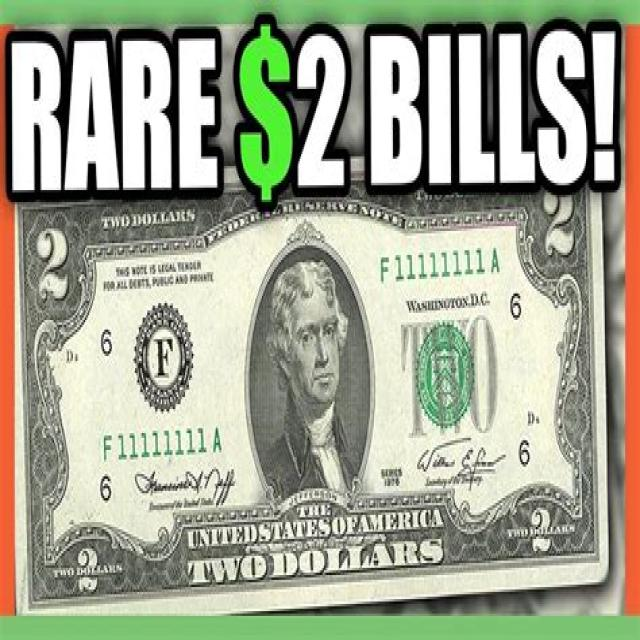Two: (15, 178, 609, 610)
